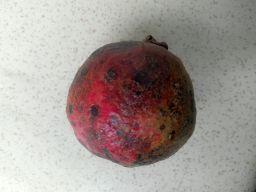pomegranate: (66, 34, 197, 167)
